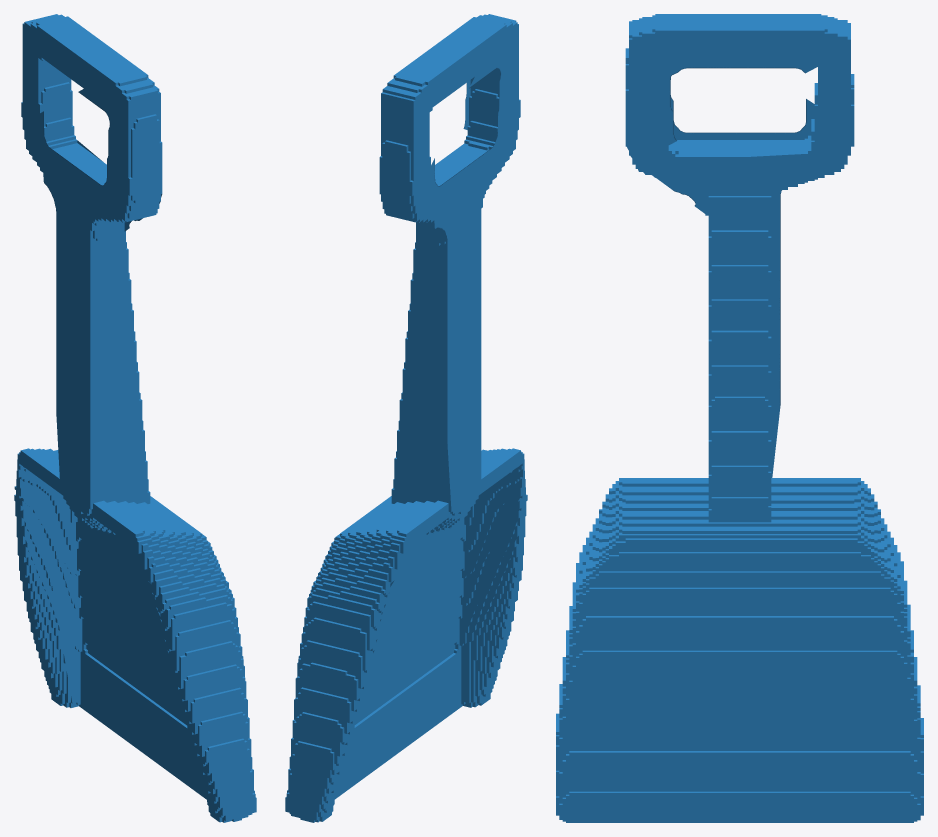
File: BigShovel.obj
The picture shows the model from 3 angles, left to right: view 1: azimuth 30°, elevation 25°; view 2: azimuth 150°, elevation 25°; view 3: azimuth 270°, elevation 25°; orthographic projection. The views are drawn at different scales.
Visible parts, largest first — view 1: Cube.001; view 2: Cube.001; view 3: Cube.001.
Part boxes in pixels (box(x1,y1,x2,y2)): Cube.001: box(14, 14, 256, 822); Cube.001: box(285, 14, 527, 822); Cube.001: box(556, 14, 923, 822).
Bounding box in the file's own units: 5.52 × 39.93 × 17.52.
1 material, 1 textured.
